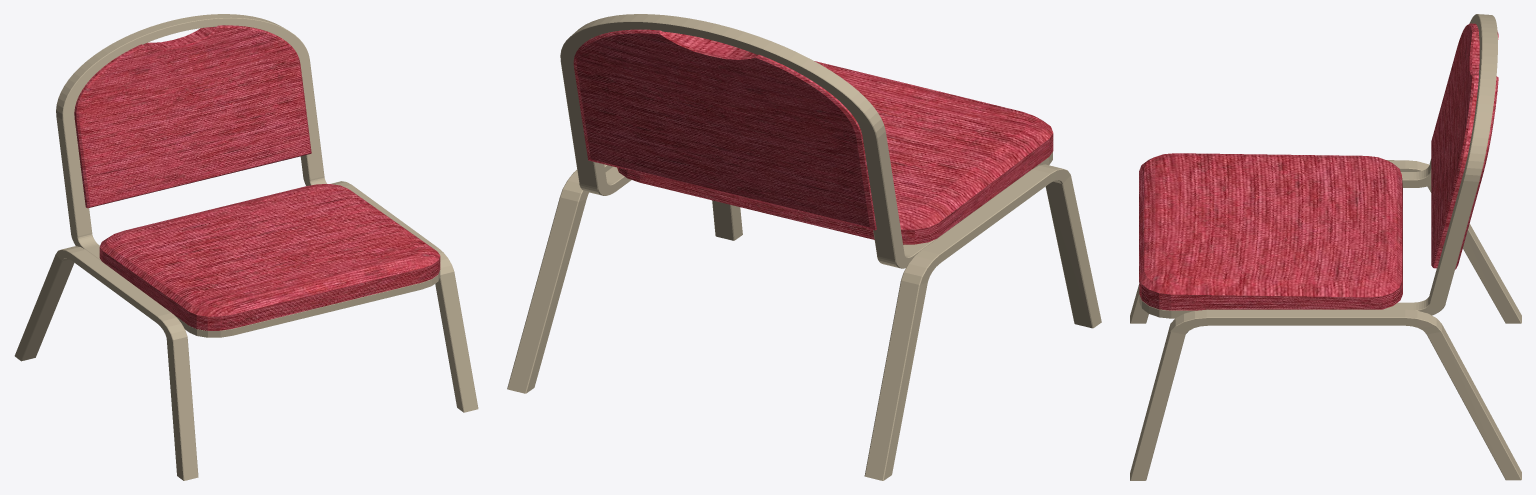
The model's file is sh-bs0-chair2.glb.
3 renders of one model, left to right at view 1: azimuth 30°, elevation 25°; view 2: azimuth 150°, elevation 25°; view 3: azimuth 270°, elevation 25°, orthographic. The views are drawn at different scales.
Visible parts, largest first — view 1: chaise, structure; view 2: chaise, structure; view 3: chaise, structure.
Part boxes in pixels (box(x1,y1,x2,y2)): chaise: box(74, 25, 440, 330); structure: box(14, 14, 478, 480); chaise: box(573, 29, 1053, 244); structure: box(507, 14, 1101, 480); chaise: box(1139, 23, 1498, 310); structure: box(1130, 14, 1521, 480).
Bounding box in the file's own units: 1 × 1 × 1.
2 materials, 1 textured.
